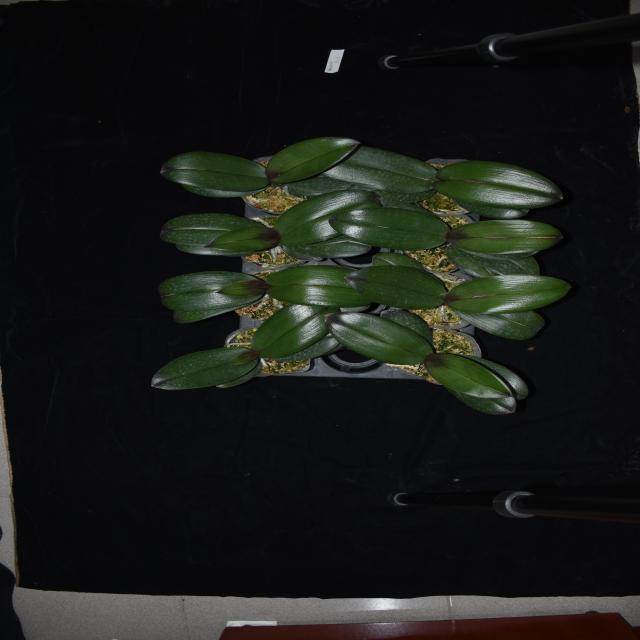leaf: (438, 157, 568, 210), (277, 190, 385, 247), (322, 312, 434, 364), (319, 144, 438, 192), (447, 272, 572, 314), (343, 264, 451, 311), (250, 301, 339, 358), (287, 170, 436, 204), (328, 207, 449, 246), (160, 148, 268, 191), (265, 135, 359, 184), (145, 348, 256, 389), (264, 265, 374, 306), (158, 269, 262, 312), (419, 354, 513, 398), (446, 218, 565, 250), (446, 304, 546, 342), (158, 214, 264, 246), (459, 352, 530, 399), (451, 246, 544, 276), (376, 307, 436, 349), (172, 297, 262, 324), (448, 193, 536, 220), (440, 383, 516, 414), (267, 334, 340, 362), (203, 227, 278, 253), (183, 178, 270, 199), (168, 241, 258, 257), (372, 252, 430, 276), (214, 361, 260, 389), (293, 240, 372, 256), (218, 278, 271, 299), (229, 346, 262, 367), (282, 243, 316, 261)
